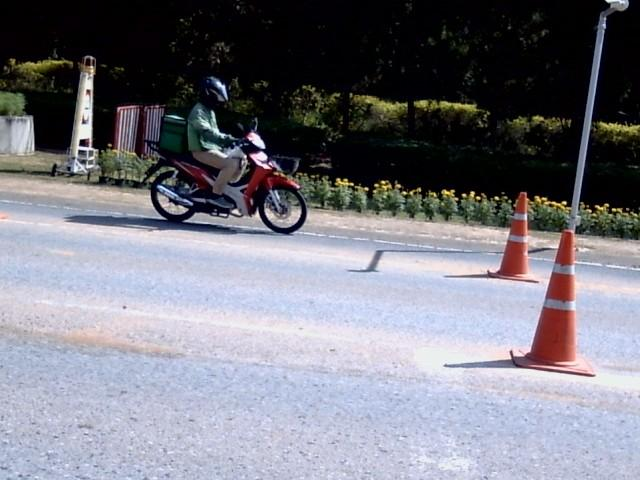helmet: (200, 76, 228, 107)
motor: (143, 119, 305, 233)
person: (188, 76, 240, 207)
